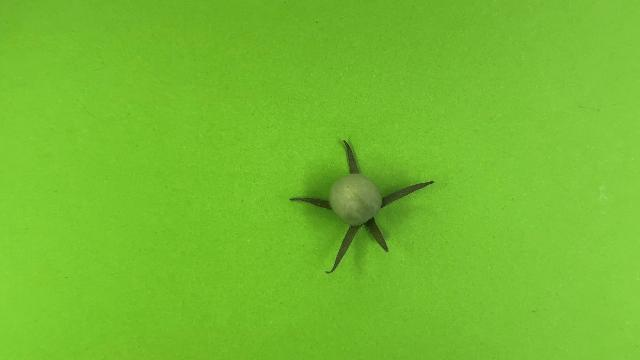Fruit Maturation: (327, 173, 384, 227)
